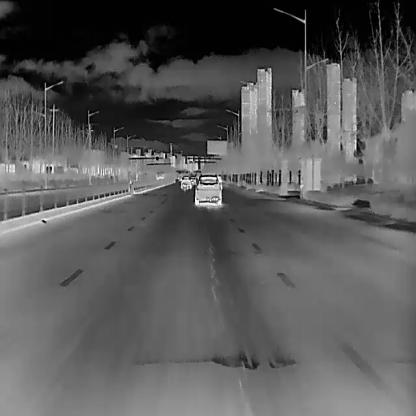bus: (154, 170, 166, 180)
car: (194, 172, 221, 206), (179, 174, 191, 189)
